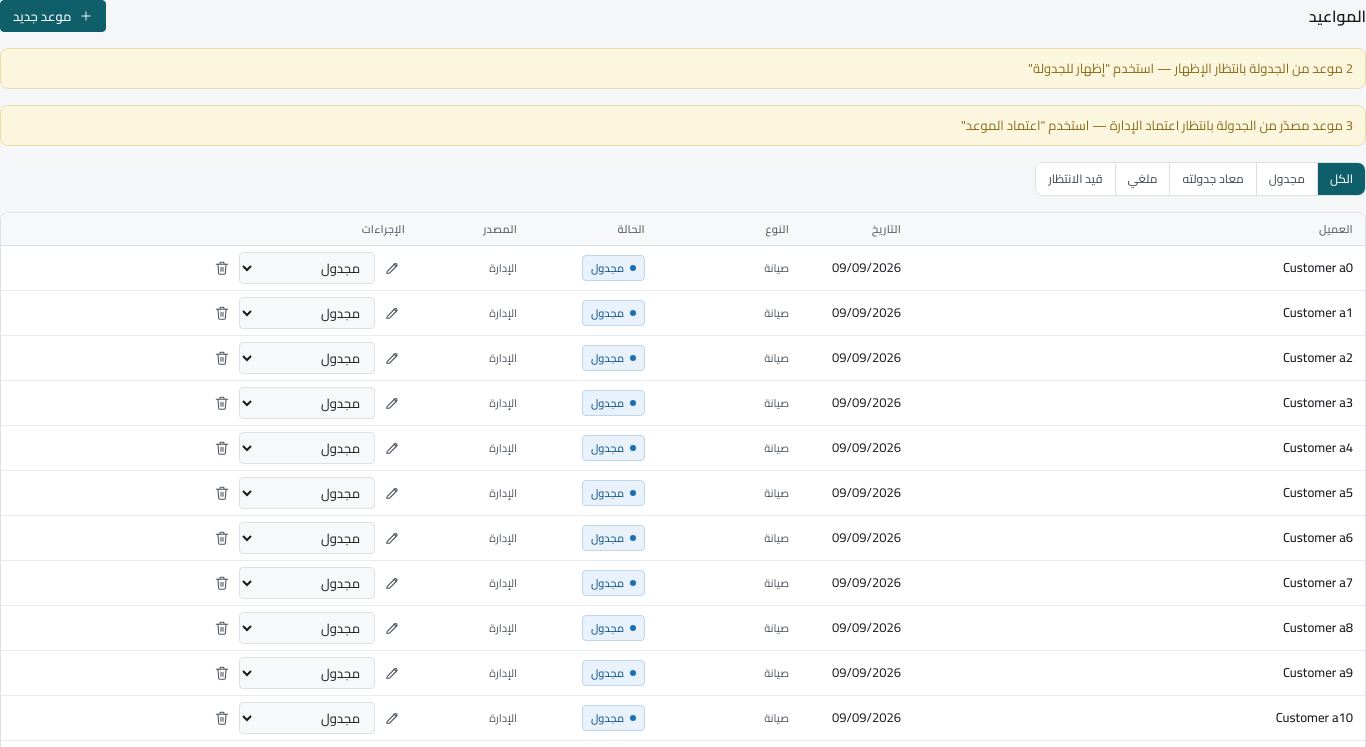
Test case: Admin Appointments: pagination UI › existing status filter still narrows results correctly alongside pagination (no regression)
Click the radio button labelled "ملغي" at (1143, 179), box [1116,163,1170,195]
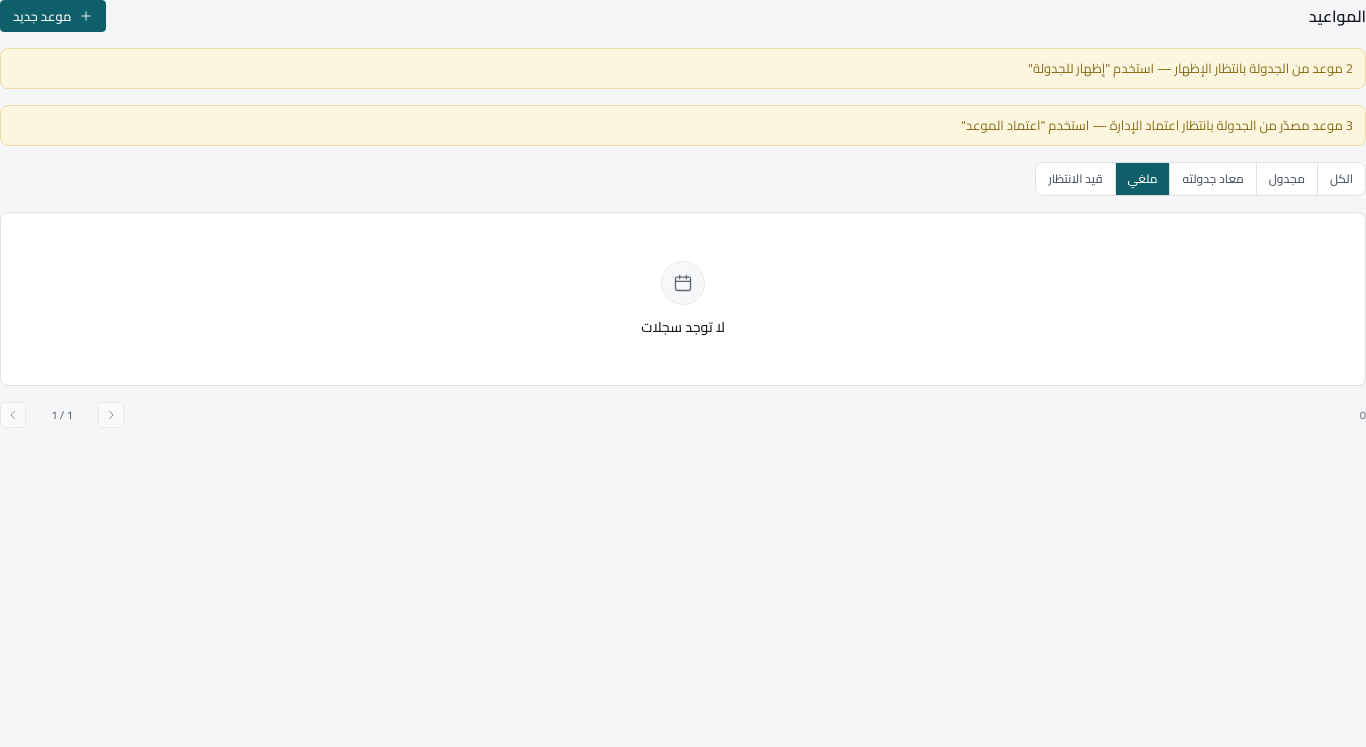
Now no rows are shown
Now the text "1 / 1" is shown, box [51,405,73,425]
